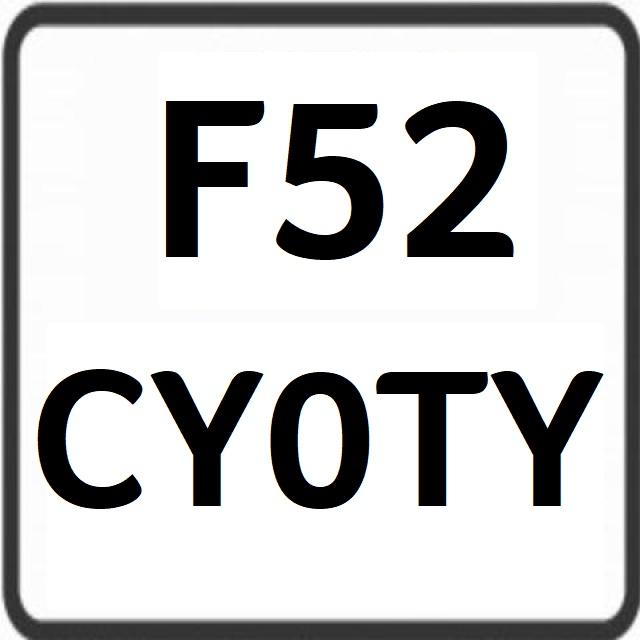2: (404, 88, 529, 280)
5: (278, 76, 393, 274)
C: (35, 357, 149, 510)
F: (148, 72, 268, 275)
T: (385, 352, 488, 522)
Y: (494, 344, 610, 527)
